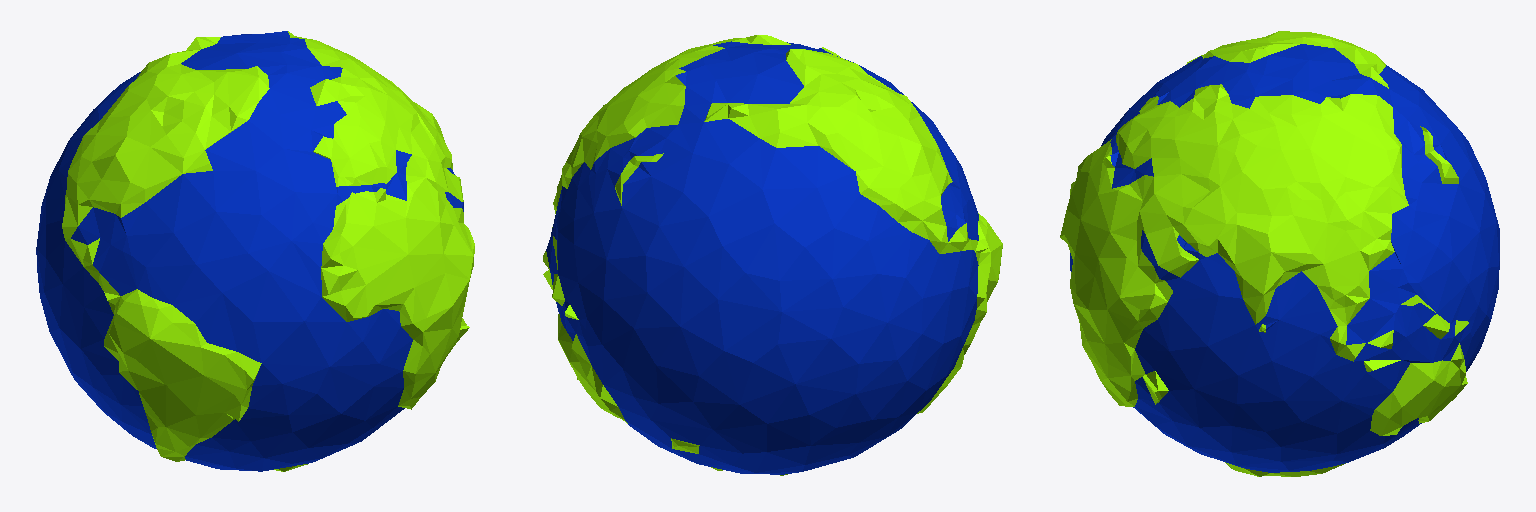
Rendered from planet.obj.
3 views of the same model, side by side, from view 1: azimuth 30°, elevation 25°; view 2: azimuth 150°, elevation 25°; view 3: azimuth 270°, elevation 25° (orthographic).
Visible parts, largest first — view 1: Icosphere.001; view 2: Icosphere.001; view 3: Icosphere.001.
Boxes of the visible parts, box(x1,y1,x2,y2) form: Icosphere.001: box(36, 31, 474, 471); Icosphere.001: box(543, 35, 1002, 475); Icosphere.001: box(1060, 31, 1499, 476).
Size of the model in its own units: 10.06 by 10.26 by 10.17.